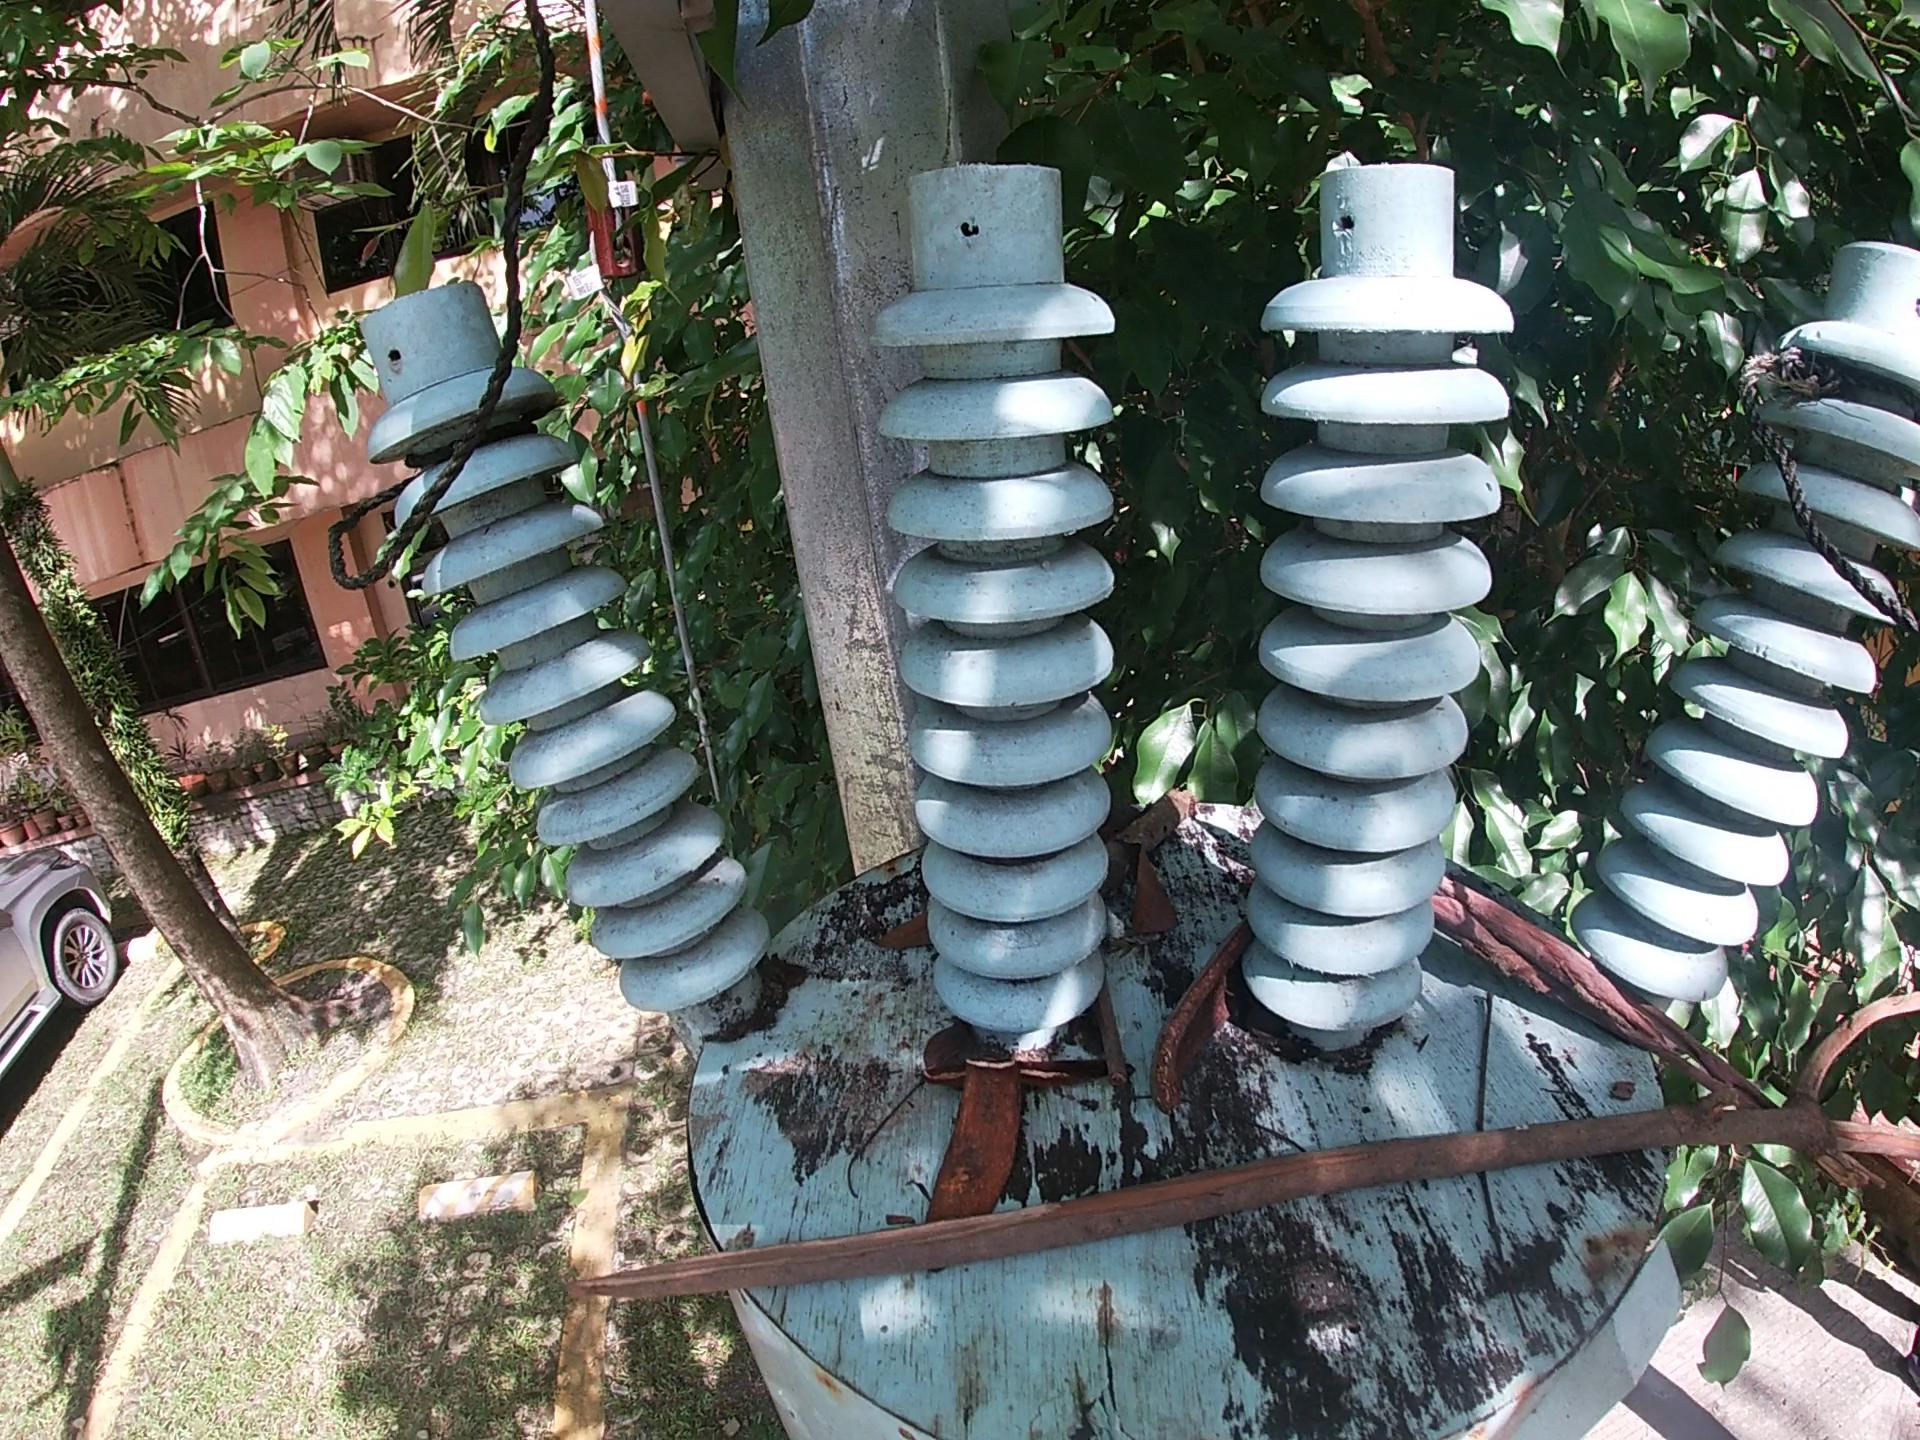leaf: (1129, 852, 1184, 942), (906, 1029, 977, 1066), (847, 926, 924, 954)
mahogany fruit: (1141, 923, 1253, 1128), (924, 1045, 1033, 1216)
tree branch: (578, 985, 1920, 1317), (1438, 879, 1791, 1116), (1476, 982, 1518, 1361), (835, 1080, 940, 1203), (1144, 1100, 1333, 1153), (1110, 781, 1205, 883), (1095, 989, 1123, 1113)
